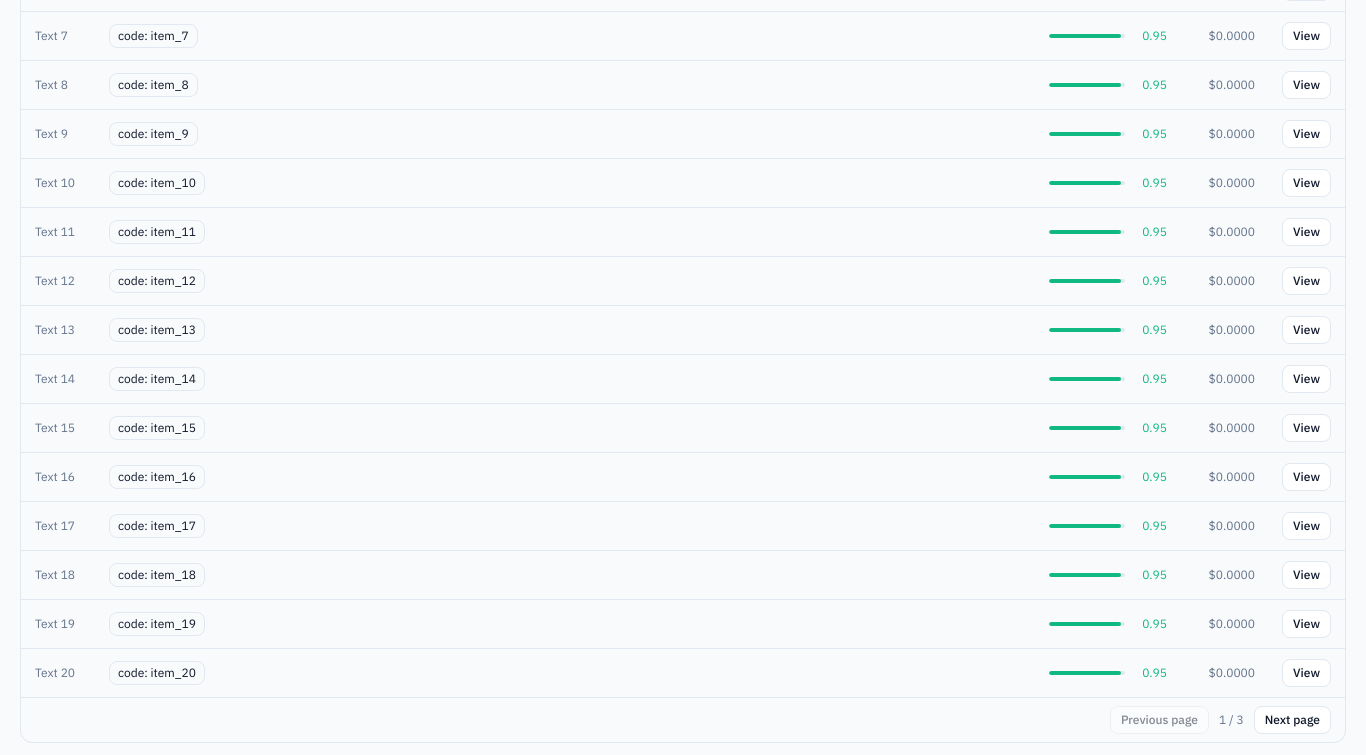
SourceGroup pagination (issue #14) › reaches results beyond the first page and keeps real item numbers
(page scrolled)
What coordinates should you click on to do the following:
click the button "Next page"
I would click on:
 (1292, 720)
Its box is [1254,706,1331,734].
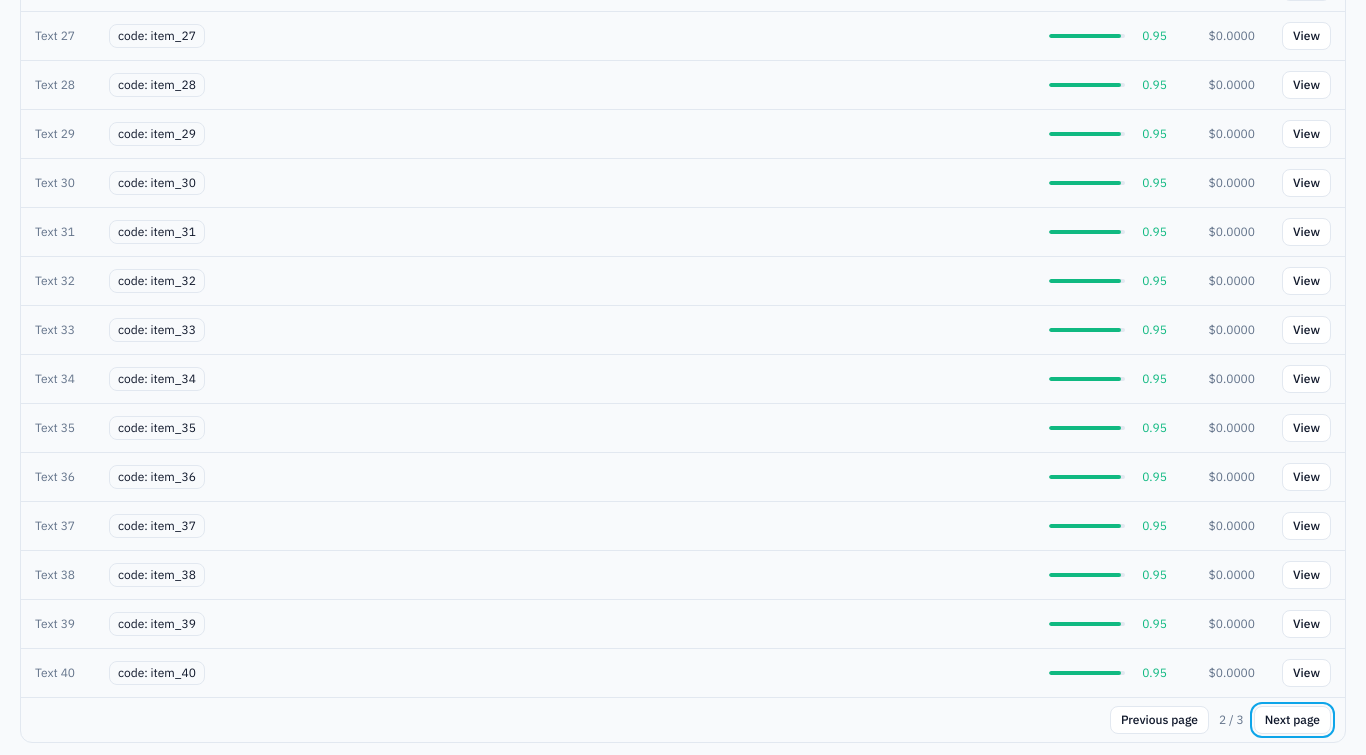
Check: the text "2 / 3" is shown, box [1219,711,1244,729]
Check: the text "code: item_1" is gone
What coordinates should you click on to do the following:
click the button "Next page"
I would click on:
 (1292, 720)
Its box is [1254,706,1331,734].
(page scrolled)
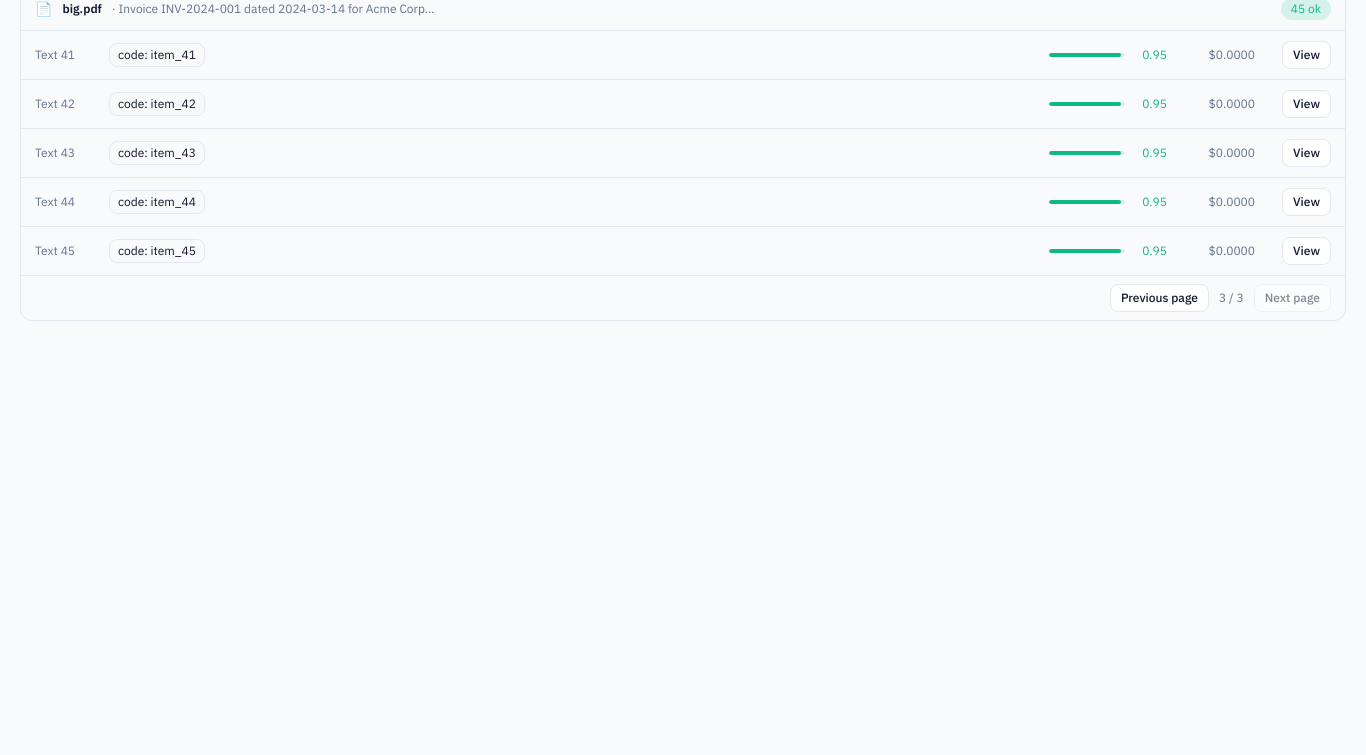
Check: the number of buttons "View" is 5, box [1282,41,1331,69]; [1282,90,1331,118]; [1282,139,1331,167]; [1282,188,1331,216]; [1282,237,1331,265]
Check: the text "code: item_45" is shown, box [109,239,205,263]
Check: the button "Next page" is disabled, box [1254,284,1331,312]
What coordinates should you click on to do the following:
click the button "Previous page"
I would click on:
 (1159, 298)
Its box is [1110,284,1209,312].
(page scrolled)
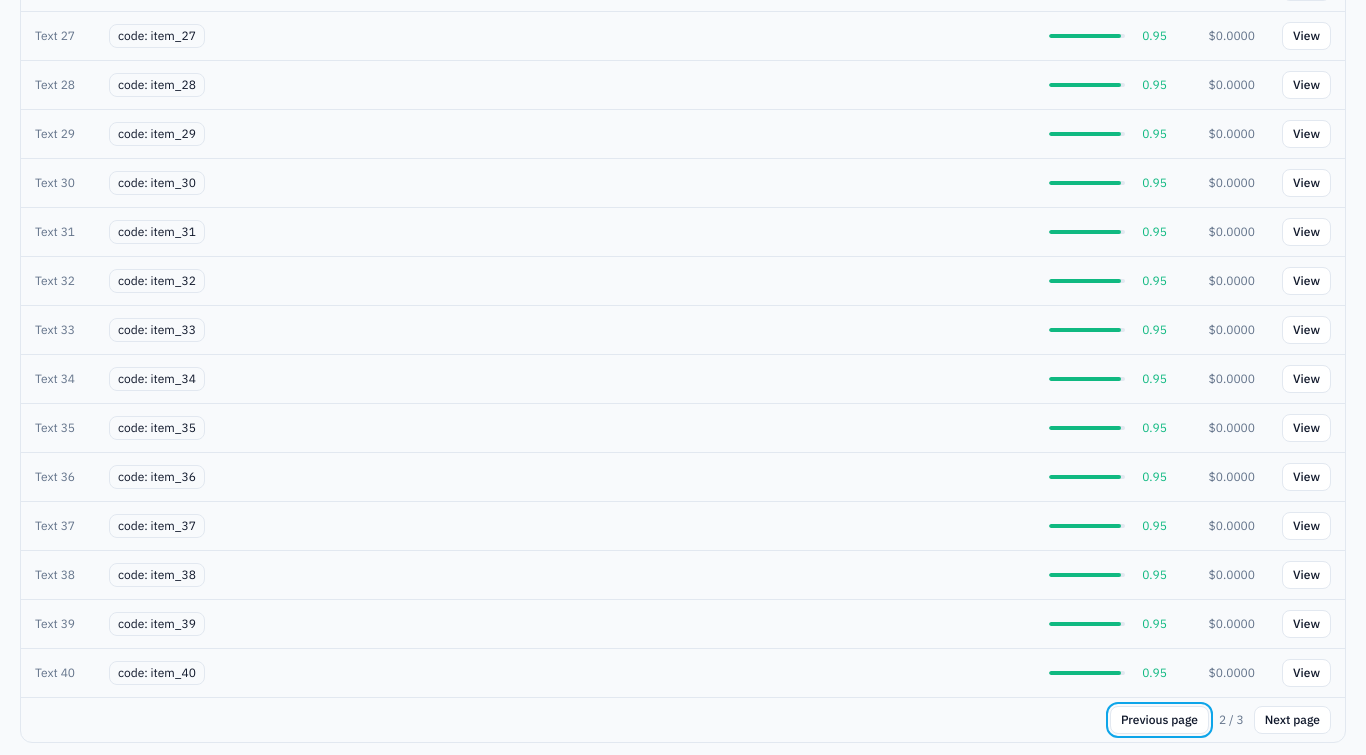
Check: the text "2 / 3" is shown, box [1219,711,1244,729]
